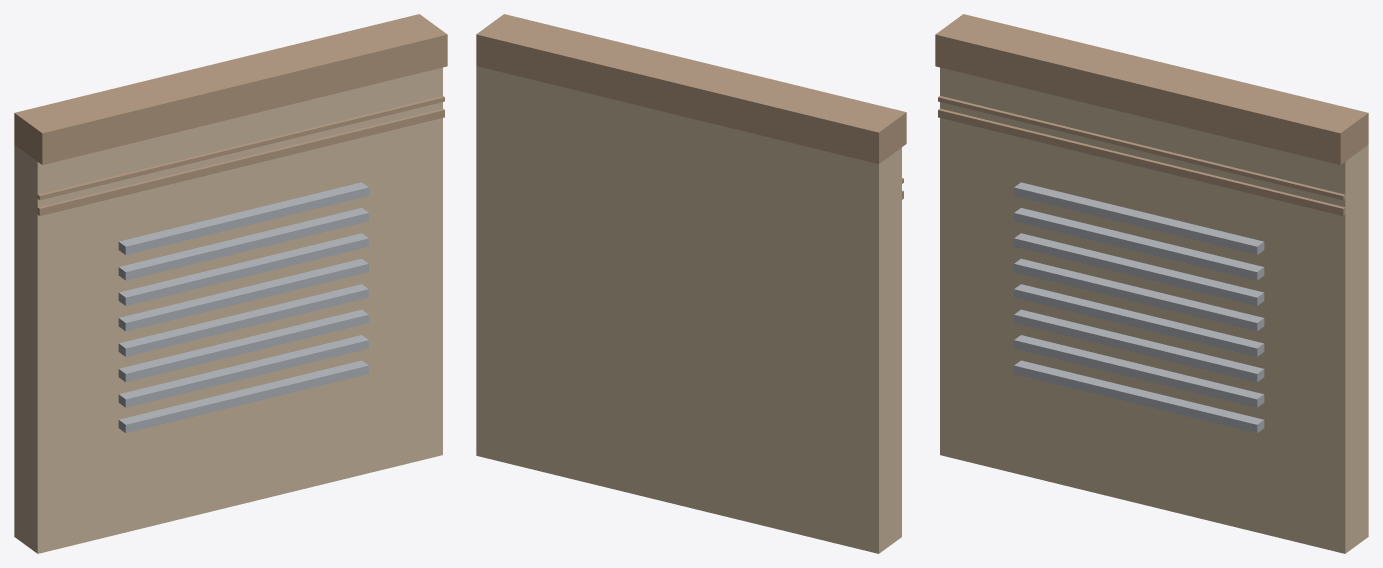
File: city_office_service.glb
3 views of the same model, side by side, from view 1: azimuth 30°, elevation 25°; view 2: azimuth 150°, elevation 25°; view 3: azimuth 330°, elevation 25° (orthographic).
Parts seen in each view (by area): view 1: CityOfficeService_Wall, CityOfficeService_Band, CityOfficeService_Strata0, CityOfficeService_Louvre1, CityOfficeService_Louvre2, CityOfficeService_Louvre4, CityOfficeService_Louvre3, CityOfficeService_Louvre5, CityOfficeService_Louvre6, CityOfficeService_Louvre7, CityOfficeService_Louvre0, CityOfficeService_Strata1; view 2: CityOfficeService_Wall, CityOfficeService_Band; view 3: CityOfficeService_Wall, CityOfficeService_Band, CityOfficeService_Strata0, CityOfficeService_Louvre1, CityOfficeService_Louvre2, CityOfficeService_Louvre4, CityOfficeService_Louvre3, CityOfficeService_Louvre5, CityOfficeService_Louvre6, CityOfficeService_Louvre7, CityOfficeService_Louvre0, CityOfficeService_Strata1.
Part boxes in pixels (bbox=[...]): CityOfficeService_Wall: bbox=[14, 67, 442, 553]; CityOfficeService_Band: bbox=[14, 14, 447, 164]; CityOfficeService_Strata0: bbox=[37, 108, 444, 215]; CityOfficeService_Louvre1: bbox=[118, 335, 368, 407]; CityOfficeService_Louvre2: bbox=[118, 309, 368, 382]; CityOfficeService_Louvre4: bbox=[118, 258, 368, 331]; CityOfficeService_Louvre3: bbox=[118, 284, 368, 356]; CityOfficeService_Louvre5: bbox=[118, 233, 368, 305]; CityOfficeService_Louvre6: bbox=[118, 208, 368, 280]; CityOfficeService_Louvre7: bbox=[118, 182, 368, 254]; CityOfficeService_Louvre0: bbox=[118, 360, 368, 433]; CityOfficeService_Strata1: bbox=[37, 96, 444, 200]; CityOfficeService_Wall: bbox=[476, 66, 901, 553]; CityOfficeService_Band: bbox=[476, 14, 906, 164]; CityOfficeService_Wall: bbox=[940, 67, 1368, 553]; CityOfficeService_Band: bbox=[935, 14, 1368, 164]; CityOfficeService_Strata0: bbox=[938, 108, 1345, 215]; CityOfficeService_Louvre1: bbox=[1014, 335, 1264, 407]; CityOfficeService_Louvre2: bbox=[1014, 309, 1264, 382]; CityOfficeService_Louvre4: bbox=[1014, 258, 1264, 331]; CityOfficeService_Louvre3: bbox=[1014, 284, 1264, 356]; CityOfficeService_Louvre5: bbox=[1014, 233, 1264, 305]; CityOfficeService_Louvre6: bbox=[1014, 208, 1264, 280]; CityOfficeService_Louvre7: bbox=[1014, 182, 1264, 254]; CityOfficeService_Louvre0: bbox=[1014, 360, 1264, 433]; CityOfficeService_Strata1: bbox=[938, 96, 1345, 200].
Bounding box in the file's own units: 4 × 4 × 0.52.
